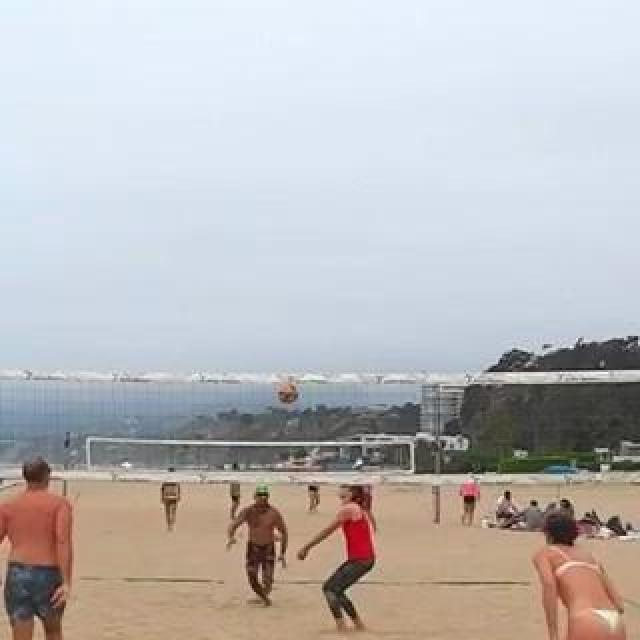volleyball: (278, 382, 298, 404)
